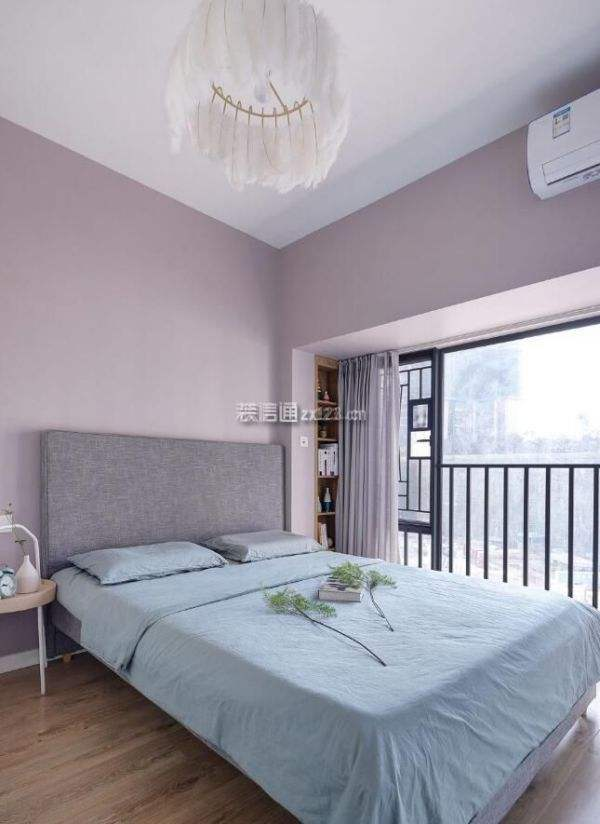床: (45, 556, 598, 809)
枕头: (71, 531, 320, 588)
灯: (160, 8, 353, 210)
